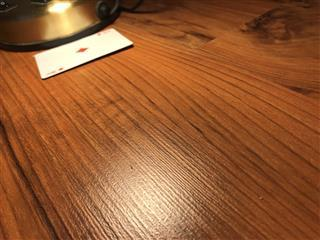AceOfDiamonds: (32, 27, 133, 79)
